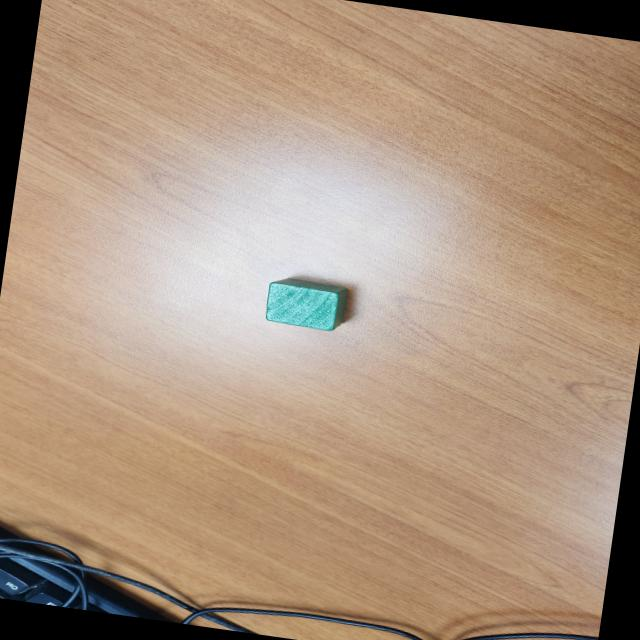green: (256, 274, 352, 333)
